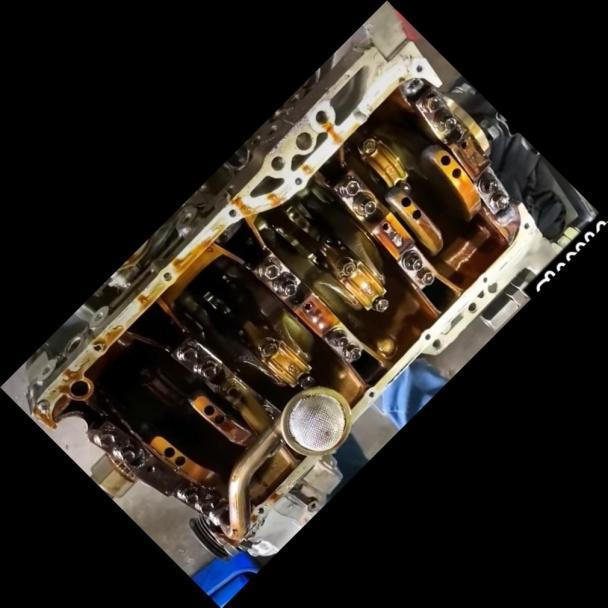hole: (309, 107, 331, 128), (267, 152, 288, 173), (225, 206, 238, 219), (160, 270, 173, 283), (253, 504, 265, 516), (291, 175, 303, 186), (413, 62, 424, 73), (478, 274, 489, 284), (421, 331, 432, 341), (521, 219, 531, 229), (366, 388, 376, 397)
